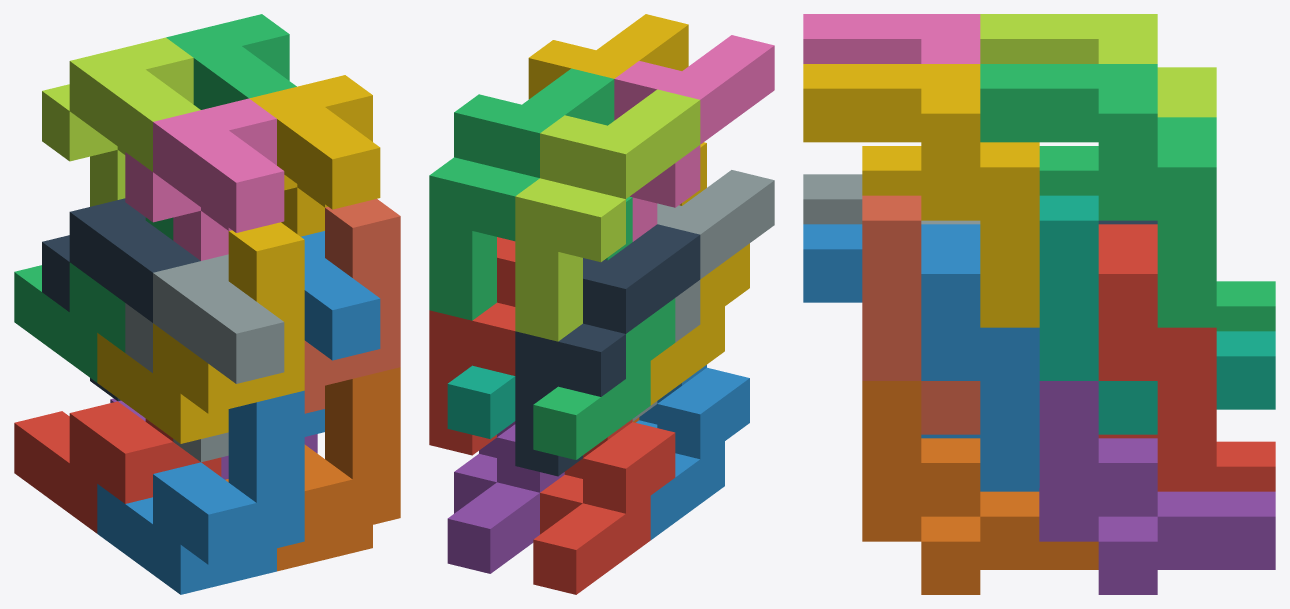
Rendered from tiling.obj.
3 renders of one model, left to right at view 1: azimuth 30°, elevation 25°; view 2: azimuth 150°, elevation 25°; view 3: azimuth 270°, elevation 25°, orthographic. The views are drawn at different scales.
Parts seen in each view (by area): view 1: copy_1_domain_2, copy_1_domain_4, copy_2_domain_4, copy_1_domain_6, copy_2_domain_3, copy_1_domain_1, copy_2_domain_2, copy_2_domain_8, copy_2_domain_1, copy_1_domain_8, copy_2_domain_7, copy_1_domain_3 (+2 smaller); view 2: copy_2_domain_3, copy_2_domain_7, copy_2_domain_1, copy_1_domain_1, copy_2_domain_4, copy_1_domain_2, copy_1_domain_5, copy_1_domain_3, copy_2_domain_5, copy_2_domain_2, copy_2_domain_8, copy_1_domain_4 (+1 smaller); view 3: copy_2_domain_7, copy_2_domain_8, copy_1_domain_5, copy_1_domain_6, copy_2_domain_6, copy_1_domain_7, copy_2_domain_5, copy_1_domain_8, copy_2_domain_3, copy_2_domain_4, copy_1_domain_3, copy_1_domain_1 (+2 smaller).
Boxes of the visible parts, left/top/right/bottom form: copy_1_domain_2: left=97, top=390, right=304, bottom=594; copy_1_domain_4: left=97, top=222, right=304, bottom=443; copy_2_domain_4: left=125, top=98, right=284, bottom=260; copy_1_domain_6: left=225, top=367, right=400, bottom=571; copy_2_domain_3: left=42, top=37, right=200, bottom=206; copy_1_domain_1: left=14, top=401, right=221, bottom=533; copy_2_domain_2: left=125, top=254, right=284, bottom=462; copy_2_domain_8: left=249, top=75, right=380, bottom=236; copy_2_domain_1: left=42, top=198, right=200, bottom=401; copy_1_domain_8: left=304, top=199, right=400, bottom=413; copy_2_domain_7: left=166, top=14, right=296, bottom=109; copy_1_domain_3: left=14, top=217, right=173, bottom=382; copy_2_domain_3: left=515, top=89, right=700, bottom=341; copy_2_domain_7: left=429, top=68, right=614, bottom=320; copy_2_domain_1: left=515, top=224, right=700, bottom=476; copy_1_domain_1: left=533, top=419, right=675, bottom=594; copy_2_domain_4: left=614, top=35, right=774, bottom=241; copy_1_domain_2: left=636, top=365, right=749, bottom=539; copy_1_domain_5: left=447, top=421, right=564, bottom=573; copy_1_domain_3: left=533, top=196, right=675, bottom=459; copy_2_domain_5: left=429, top=237, right=515, bottom=455; copy_2_domain_2: left=632, top=170, right=774, bottom=421; copy_2_domain_8: left=528, top=14, right=688, bottom=99; copy_1_domain_4: left=650, top=142, right=749, bottom=405; copy_2_domain_7: left=980, top=64, right=1216, bottom=327; copy_2_domain_8: left=803, top=64, right=1039, bottom=327; copy_1_domain_5: left=1039, top=381, right=1275, bottom=594; copy_1_domain_6: left=862, top=381, right=1098, bottom=594; copy_2_domain_6: left=803, top=224, right=1039, bottom=487; copy_1_domain_7: left=1039, top=195, right=1275, bottom=434; copy_2_domain_5: left=1098, top=224, right=1216, bottom=487; copy_1_domain_8: left=862, top=195, right=980, bottom=434; copy_2_domain_3: left=980, top=14, right=1216, bottom=117; copy_2_domain_4: left=803, top=14, right=980, bottom=63; copy_1_domain_3: left=1039, top=146, right=1275, bottom=331; copy_1_domain_1: left=1098, top=434, right=1275, bottom=491.
Bounding box in the file's own units: 4 × 9 × 8.
